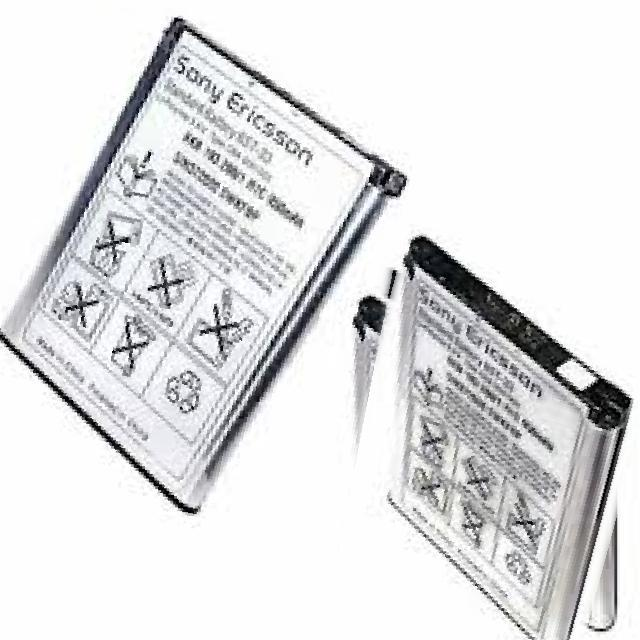Battery: (0, 0, 422, 533), (374, 221, 639, 639)
